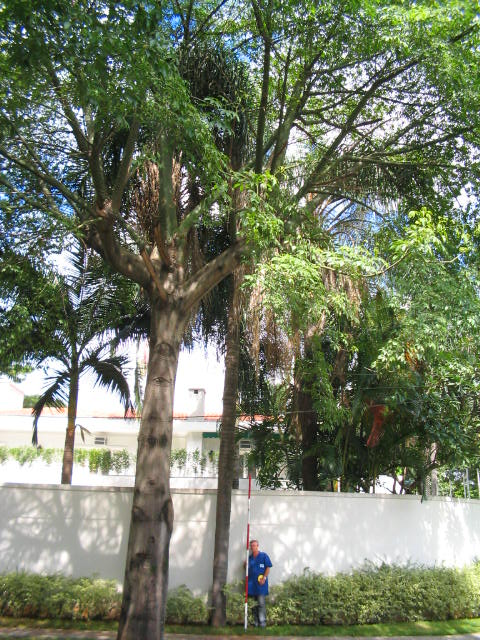stem: (103, 312, 198, 639)
stick: (237, 475, 255, 630)
tree: (5, 5, 464, 639)
